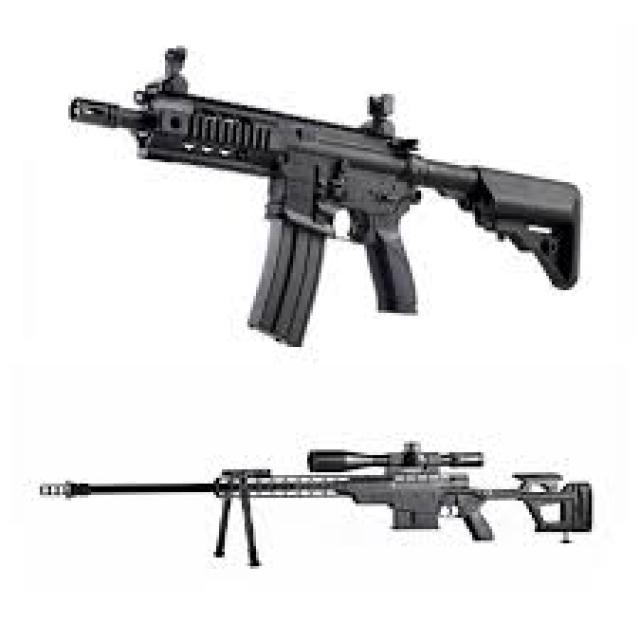Gun: (13, 411, 614, 604)
